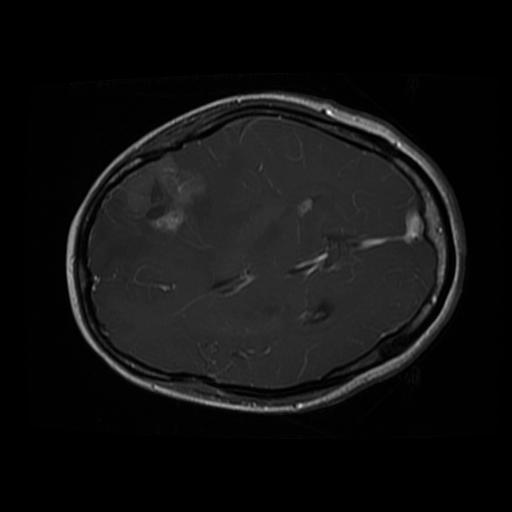glioma: (100, 153, 208, 236)
